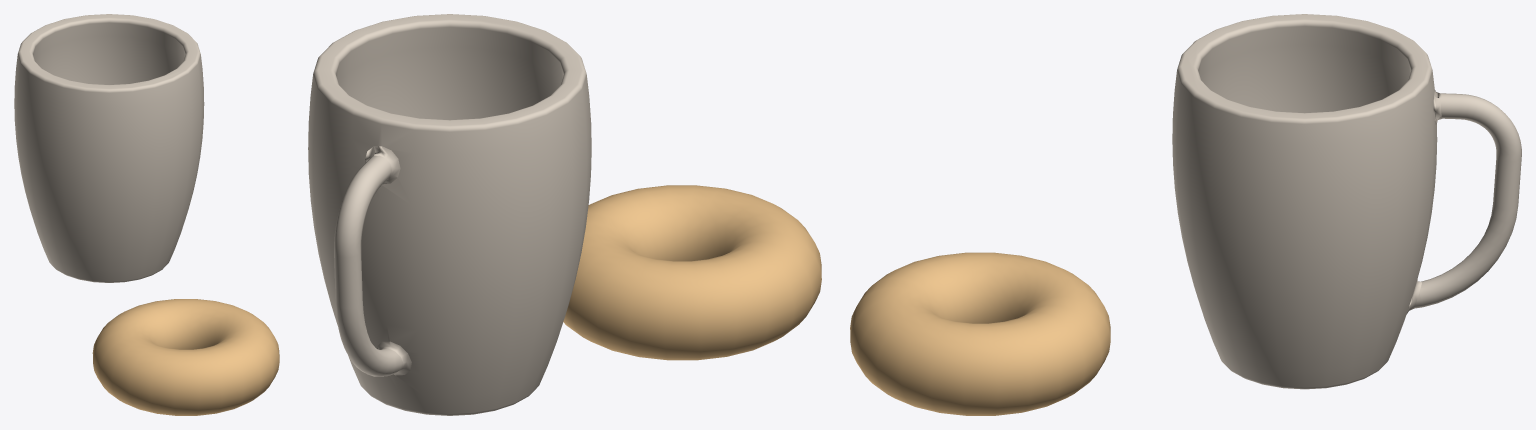
3 views of the same model, side by side, from view 1: azimuth 30°, elevation 25°; view 2: azimuth 150°, elevation 25°; view 3: azimuth 270°, elevation 25° (orthographic). The views are drawn at different scales.
Visible parts, largest first — view 1: mesh1_mesh1-geometry, mesh11_mesh11-geometry_1; view 2: mesh1_mesh1-geometry, mesh11_mesh11-geometry_1; view 3: mesh1_mesh1-geometry, mesh11_mesh11-geometry_1.
Part boxes in pixels (bbox=[...]): mesh1_mesh1-geometry: bbox=[14, 14, 204, 282]; mesh11_mesh11-geometry_1: bbox=[92, 299, 279, 415]; mesh1_mesh1-geometry: bbox=[308, 14, 591, 415]; mesh11_mesh11-geometry_1: bbox=[563, 185, 821, 360]; mesh1_mesh1-geometry: bbox=[1172, 14, 1521, 389]; mesh11_mesh11-geometry_1: bbox=[850, 252, 1110, 415].
Size of the model in its own units: 0.391 by 0.4454 by 0.8054.
